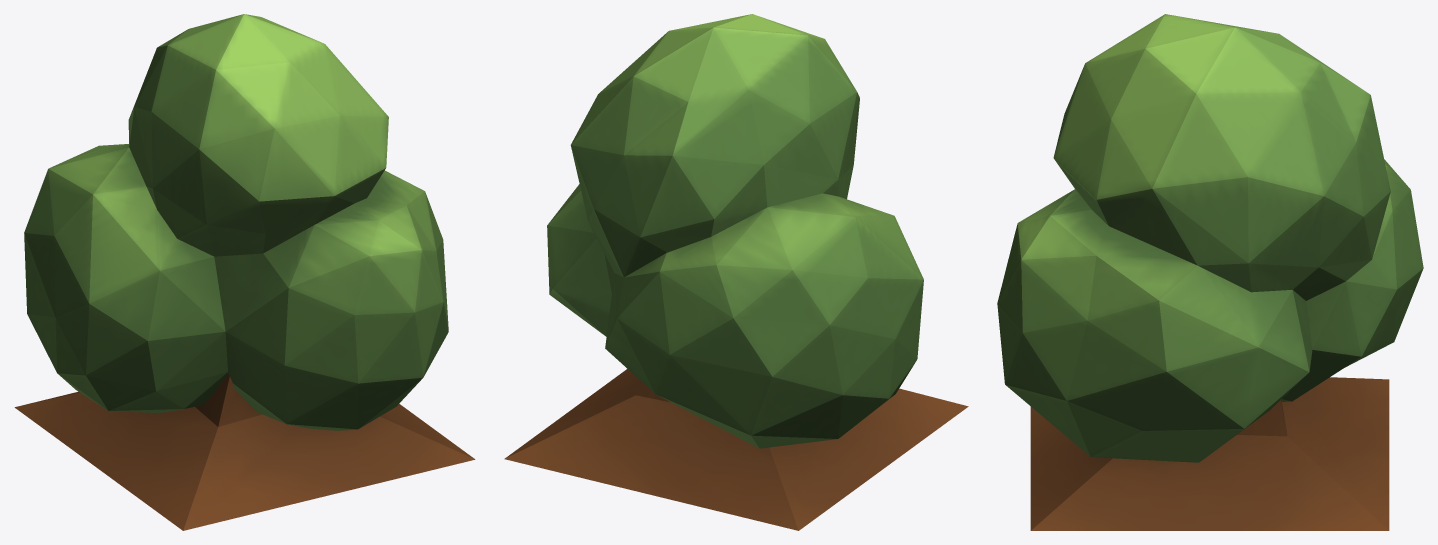
The model's file is Buisson_A.FBX.
3 views of the same model, side by side, from view 1: azimuth 30°, elevation 25°; view 2: azimuth 150°, elevation 25°; view 3: azimuth 270°, elevation 25° (orthographic). The views are drawn at different scales.
Parts seen in each view (by area): view 1: Buisson_A; view 2: Buisson_A; view 3: Buisson_A.
Part boxes in pixels (box(x1,y1,x2,y2)): Buisson_A: box(14, 14, 475, 530); Buisson_A: box(504, 14, 968, 530); Buisson_A: box(997, 14, 1423, 530).
Size of the model in its own units: 1.2 by 1.33 by 1.19.
